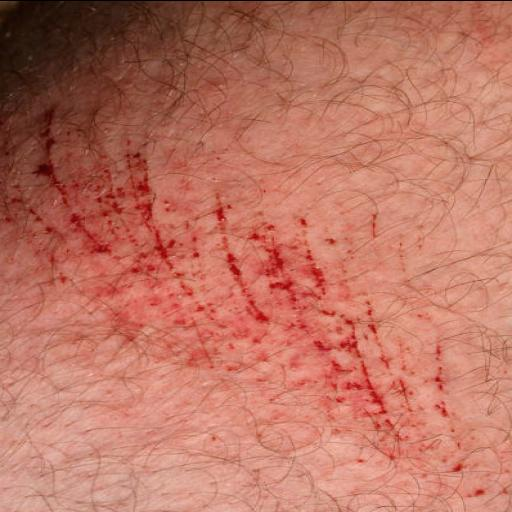bruises: (65, 201, 308, 343)
